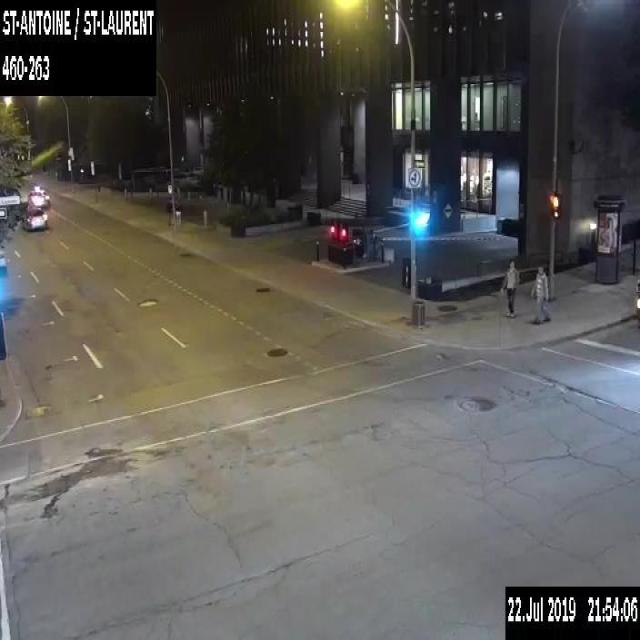pedestrian: (500, 256, 521, 317), (529, 264, 550, 323), (174, 198, 182, 225), (166, 195, 172, 225)
vehicle: (22, 207, 47, 231), (27, 188, 50, 208), (0, 241, 8, 276), (633, 278, 639, 324)
